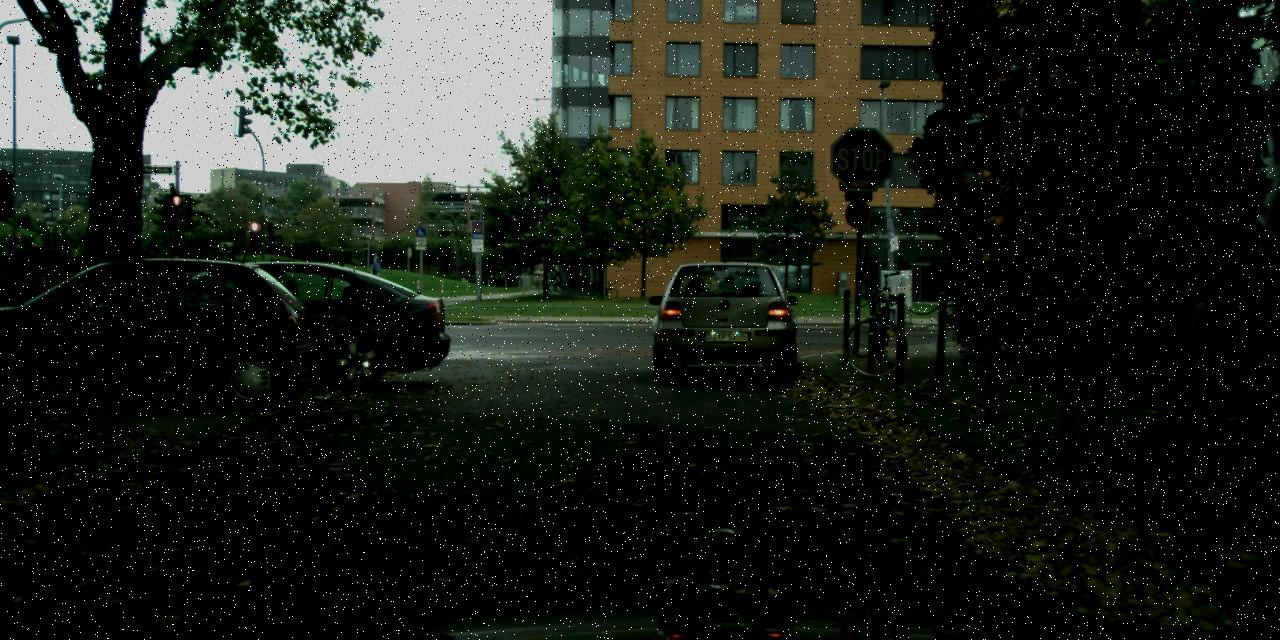ped: (549, 268, 559, 292)
